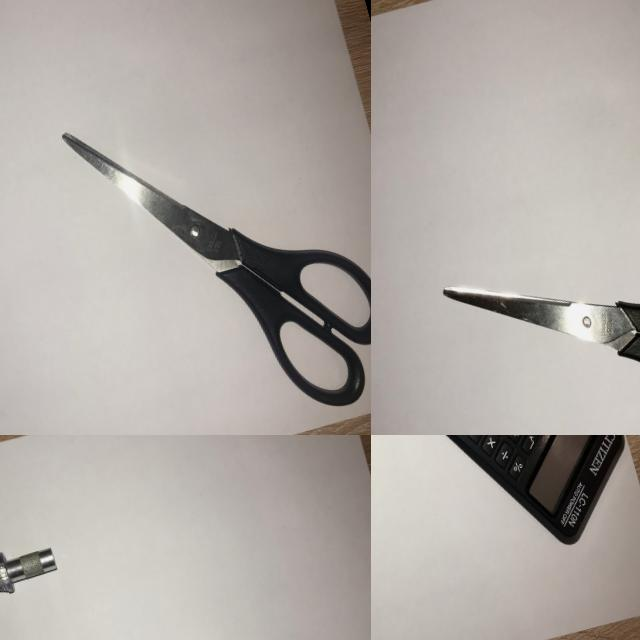calculator: (394, 435, 640, 578)
scissors: (51, 57, 371, 435), (434, 192, 640, 435)
screwdriver: (0, 526, 67, 638)
